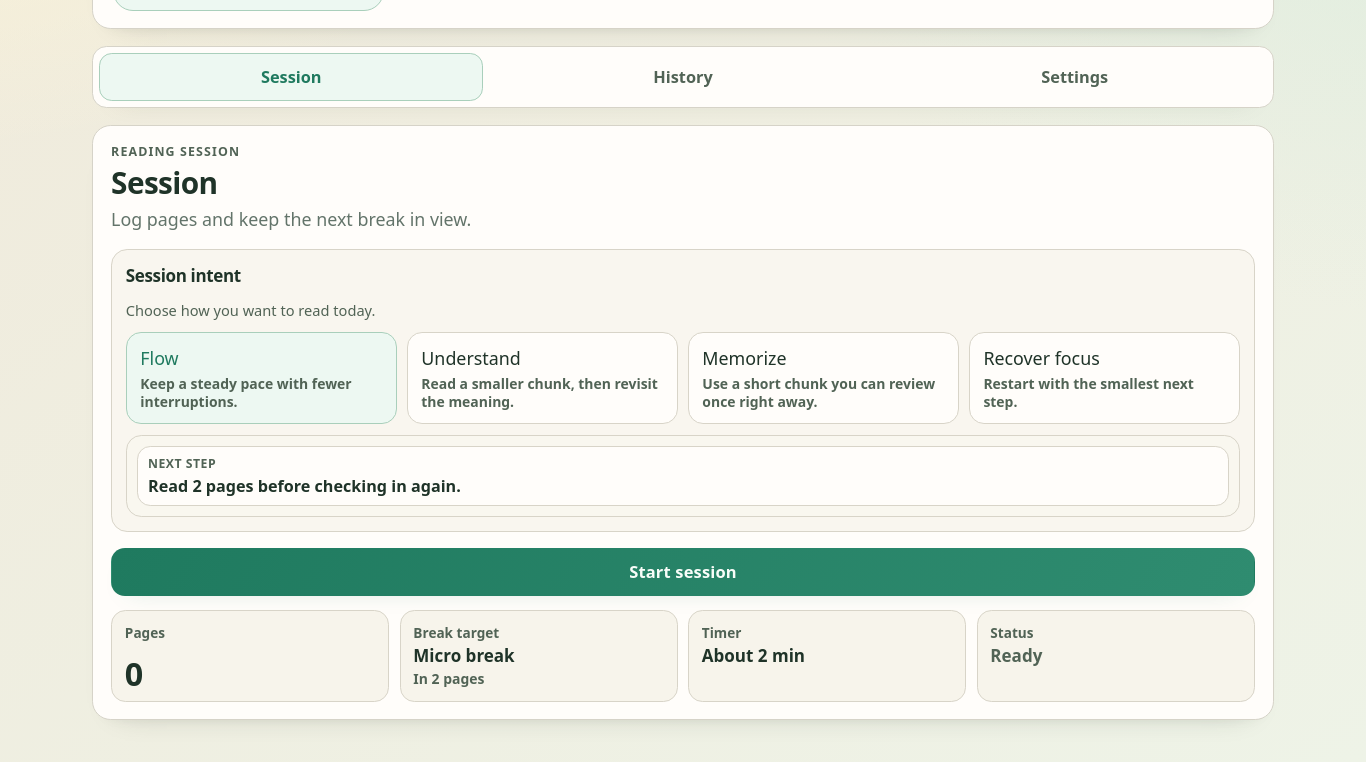
Test: Quran Rest Coach app › lets you cancel the pre-start countdown without creating a session
(page scrolled)
Click the button "Start session".
click(683, 572)  # box left=111, top=548, right=1255, bottom=596
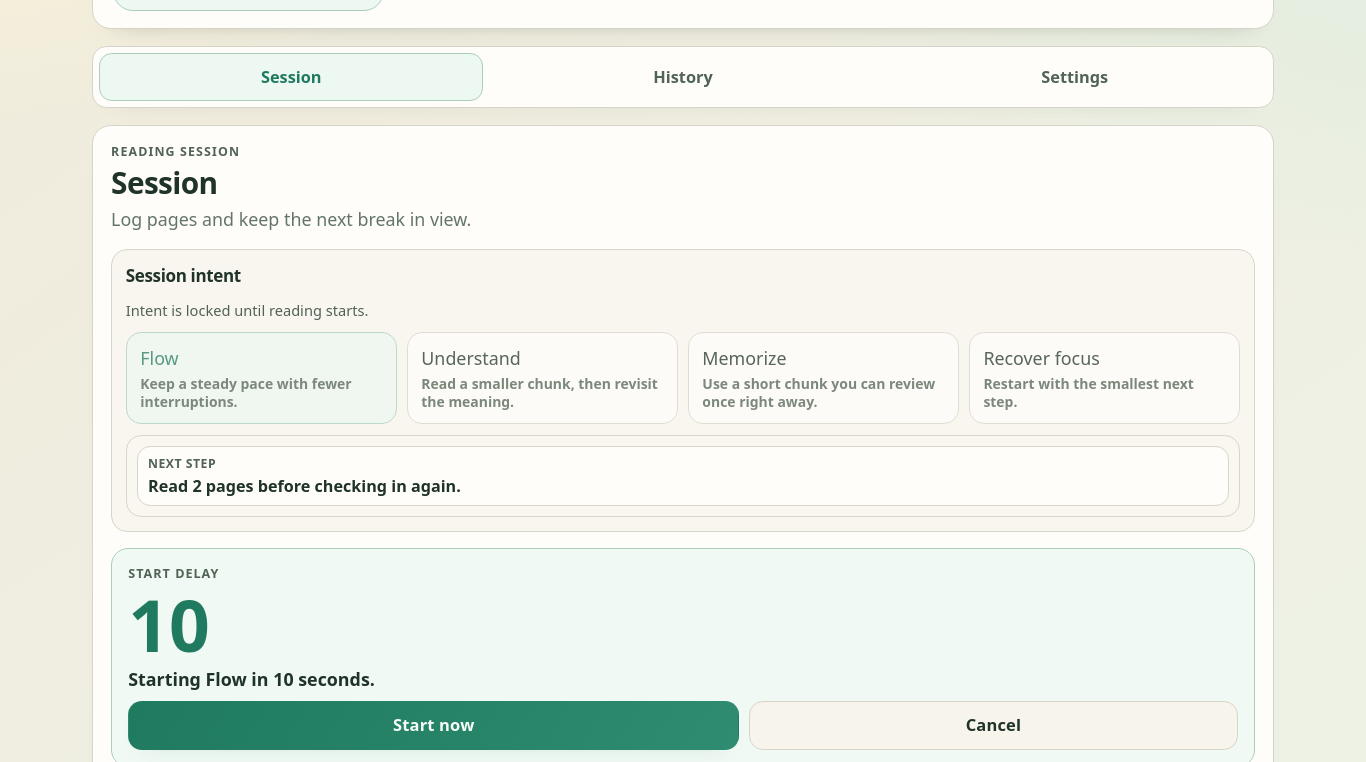
Click the button "Cancel".
click(993, 725)  # box left=749, top=701, right=1238, bottom=750
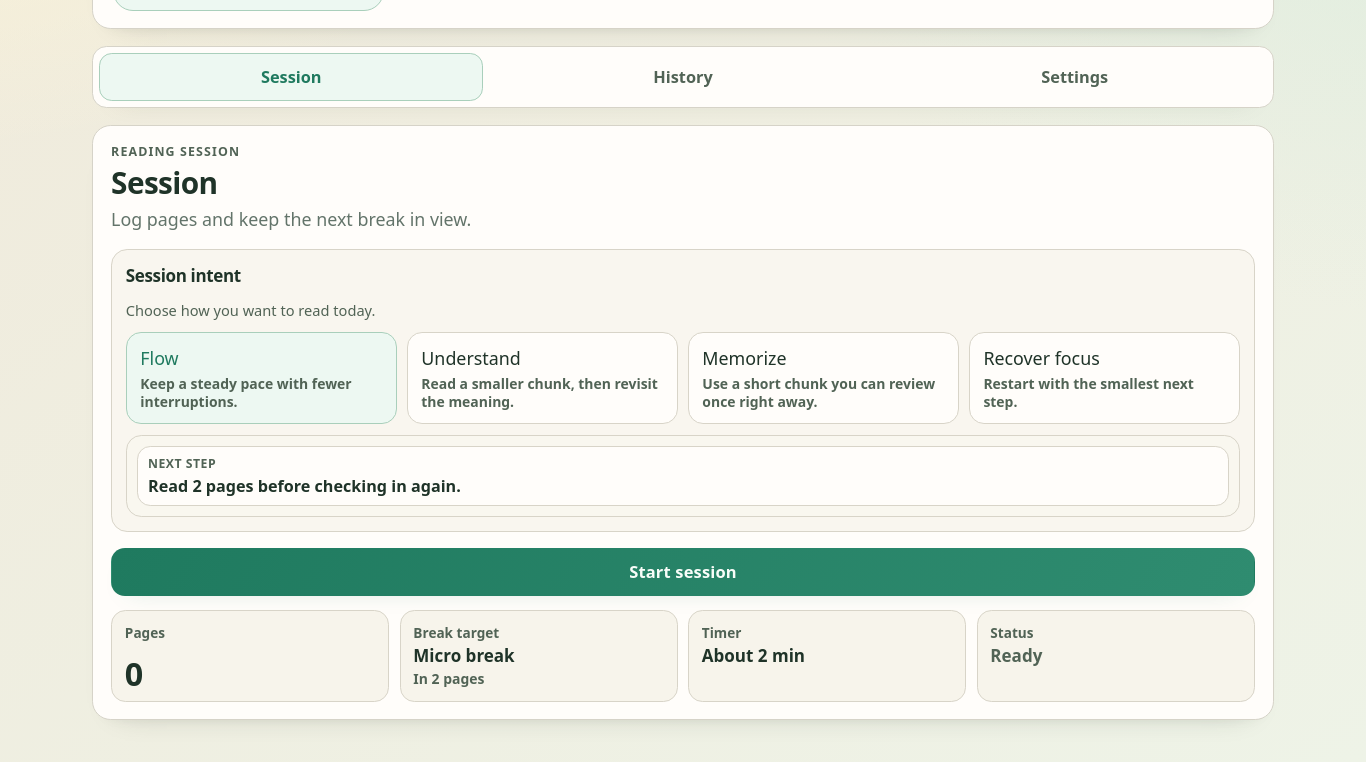
expect the button "Start session" is shown: met, box left=111, top=548, right=1255, bottom=596
